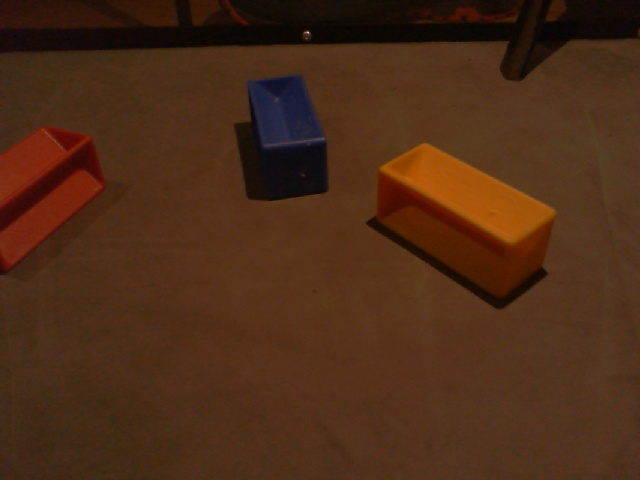BlueSample: (244, 73, 331, 202)
RedSample: (1, 124, 106, 273)
YellowSample: (374, 139, 557, 311)
